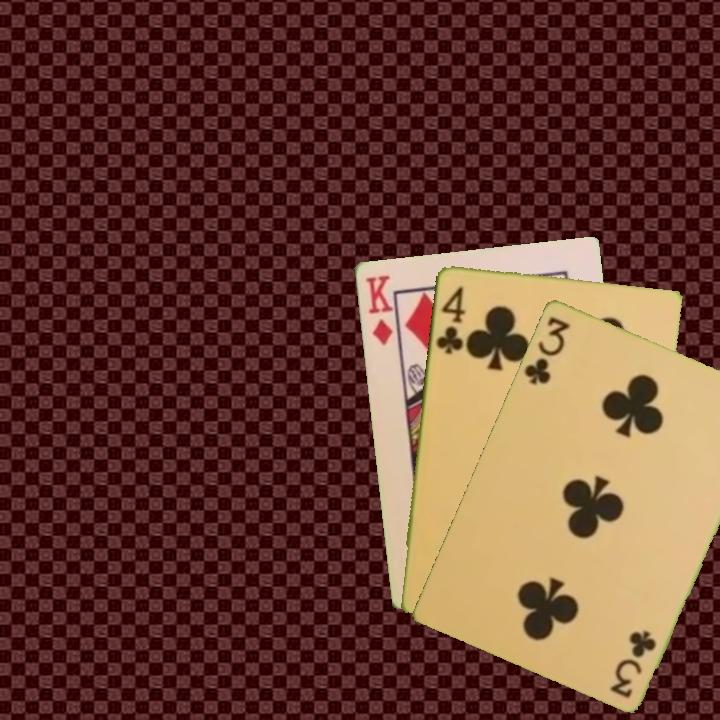3c: (520, 313, 573, 387), (607, 626, 659, 701)
4c: (432, 283, 468, 356)
Kd: (361, 271, 395, 348)
